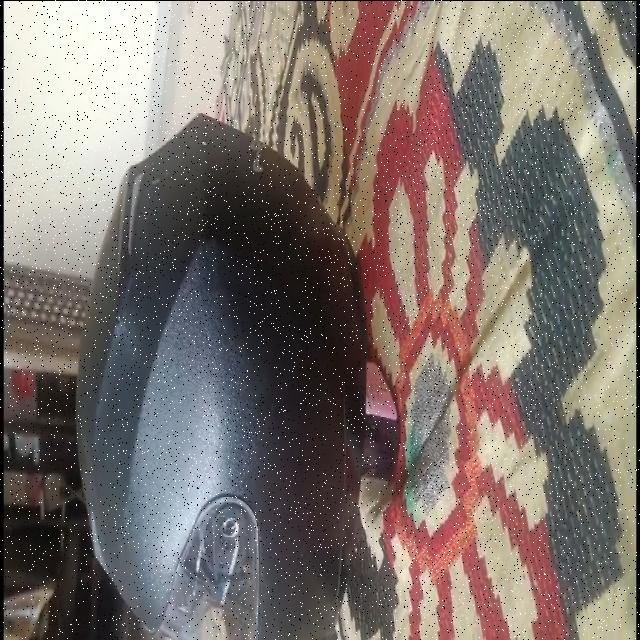Helmet: (76, 112, 379, 640)
